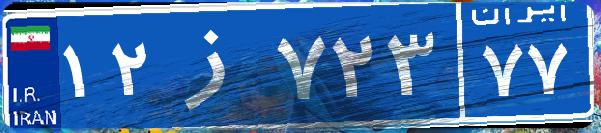1: (57, 26, 110, 107)
2: (330, 28, 385, 110), (110, 28, 158, 105)
3: (385, 28, 445, 110)
7: (273, 28, 330, 110), (475, 38, 525, 113), (525, 38, 570, 115)
ز: (158, 15, 273, 115)
